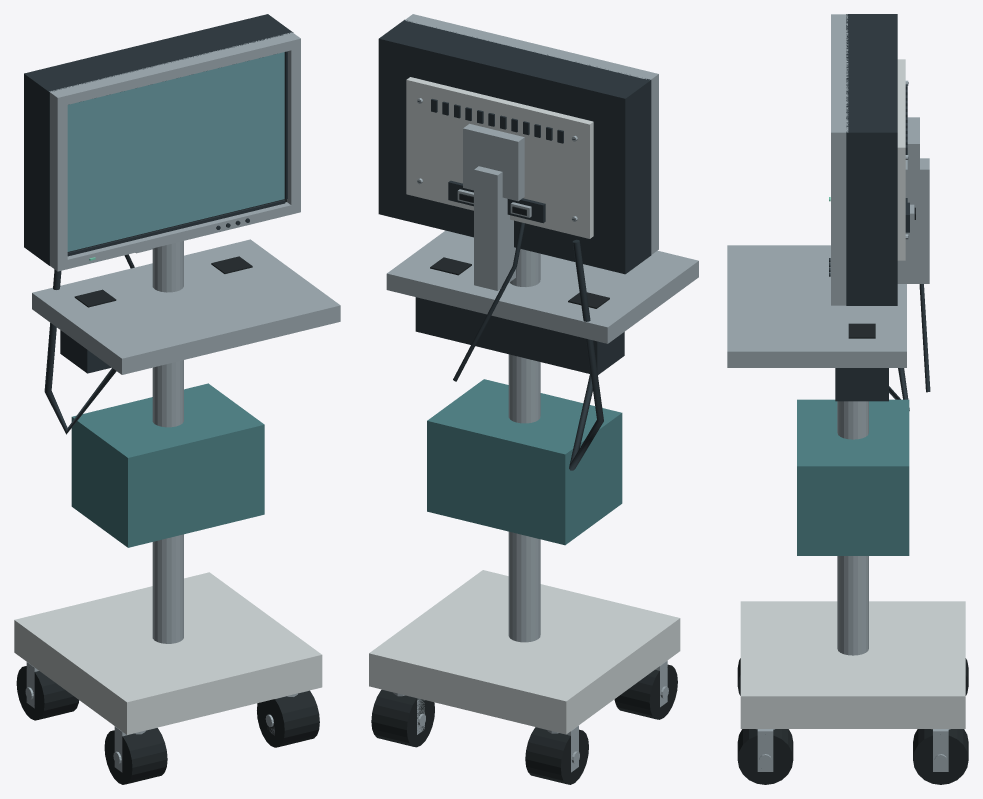
File: PC_SF_VitalCart.fbx
The picture shows the model from 3 angles, left to right: view 1: azimuth 30°, elevation 25°; view 2: azimuth 150°, elevation 25°; view 3: azimuth 270°, elevation 25°; orthographic projection.
Visible parts, largest first — view 1: PC_SF_VitalCart; view 2: PC_SF_VitalCart; view 3: PC_SF_VitalCart.
Part boxes in pixels (left/top/right/bottom): PC_SF_VitalCart: left=14, top=14, right=340, bottom=784; PC_SF_VitalCart: left=369, top=14, right=698, bottom=784; PC_SF_VitalCart: left=727, top=14, right=968, bottom=784.
Size of the model in its own units: 62.5 by 163 by 53.7.
